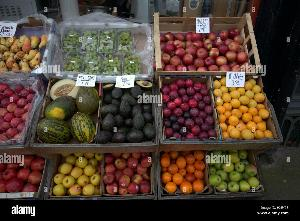apple: (159, 20, 257, 74), (103, 147, 151, 195), (209, 148, 259, 194), (48, 152, 102, 194)
avocado: (96, 80, 154, 142)
grape: (55, 24, 150, 76)
orange: (158, 149, 208, 195)
pear: (0, 24, 52, 74)
plum: (159, 72, 211, 144), (219, 74, 273, 140)
pomegranate: (0, 152, 48, 196), (0, 83, 32, 146)
